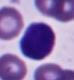D: (20, 21, 56, 60)
